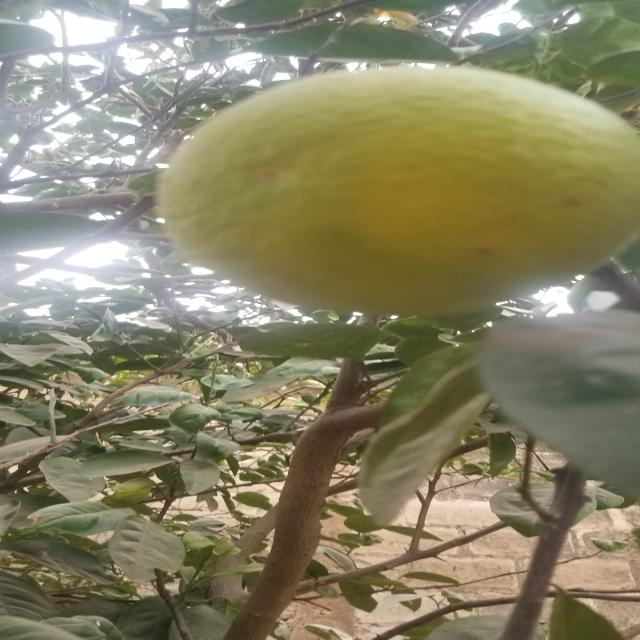Unripe: (147, 59, 640, 327)
